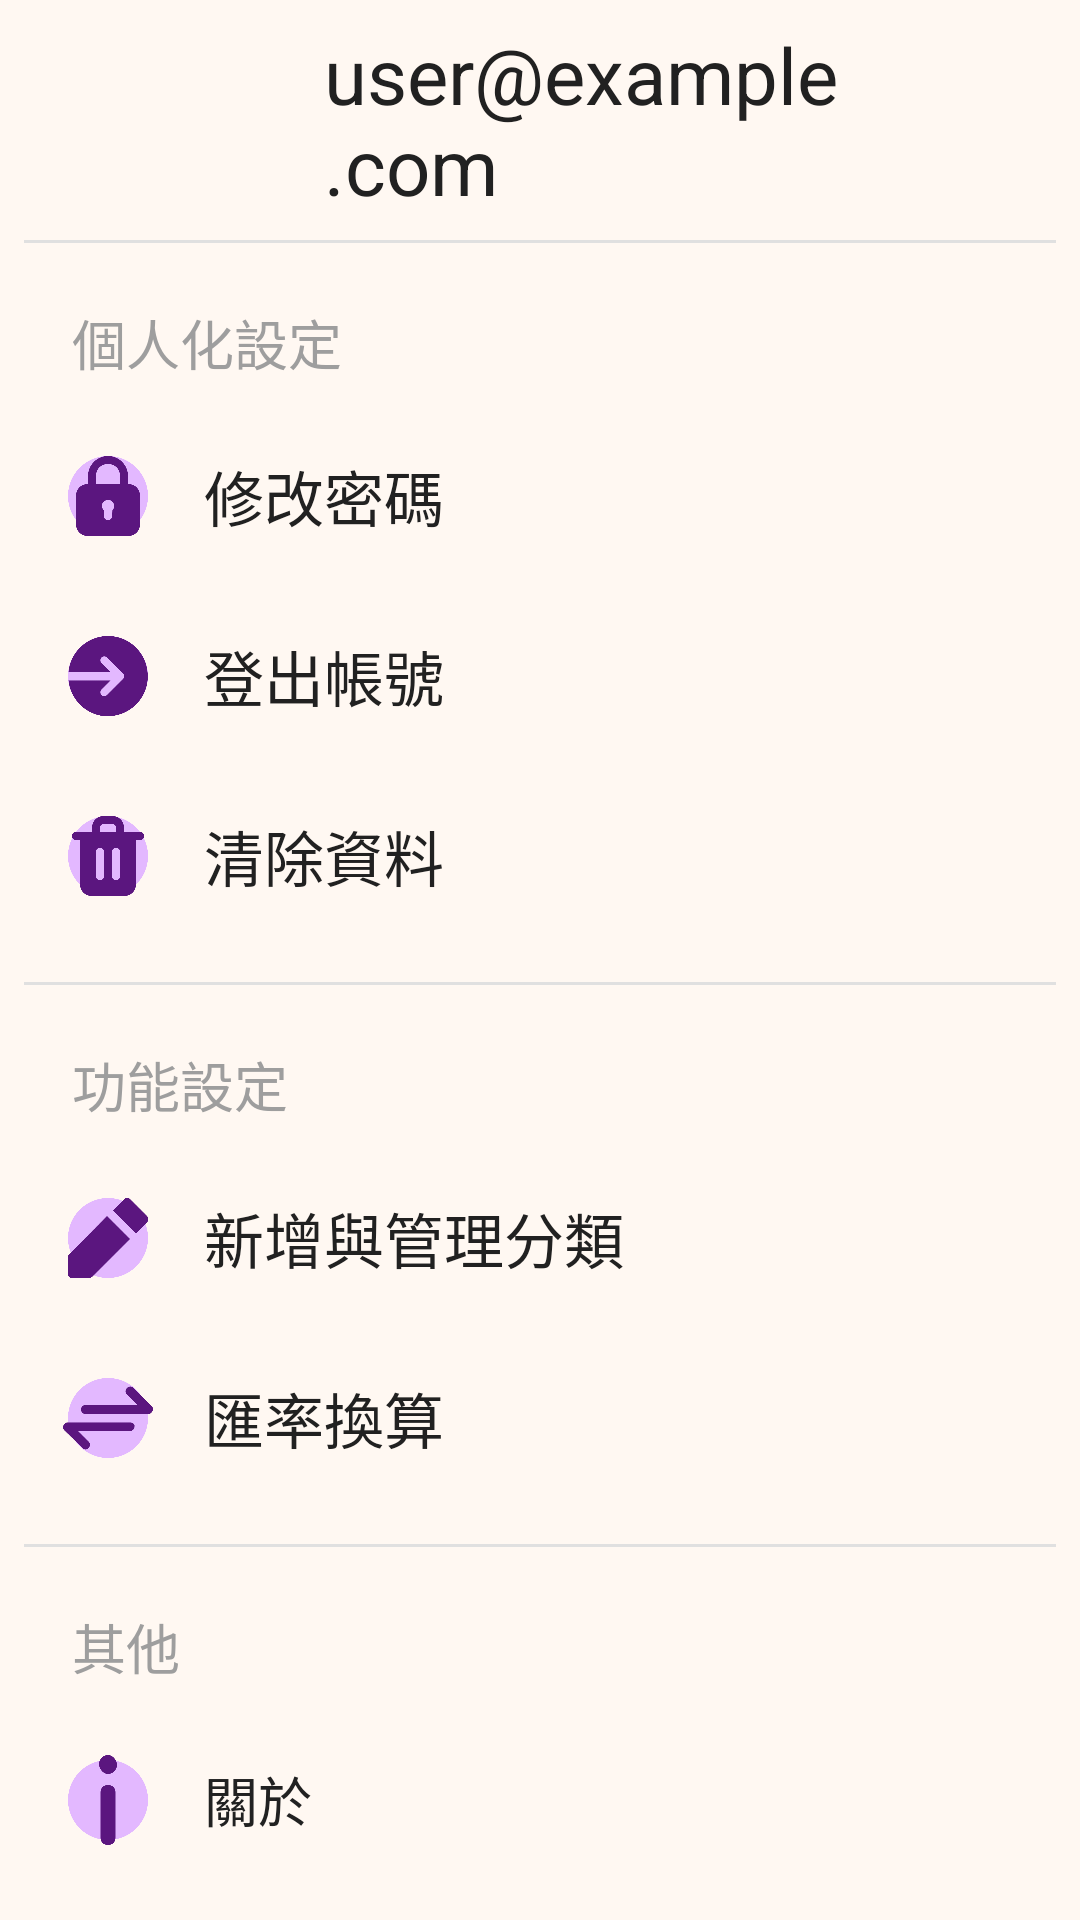

Icons on this 1080px x 1920px Android screen, each with the point to tap as point (x, y):
clean: point (108, 856)
exchange: point (108, 1418)
info: point (108, 1800)
password: point (108, 496)
signout: point (108, 676)
